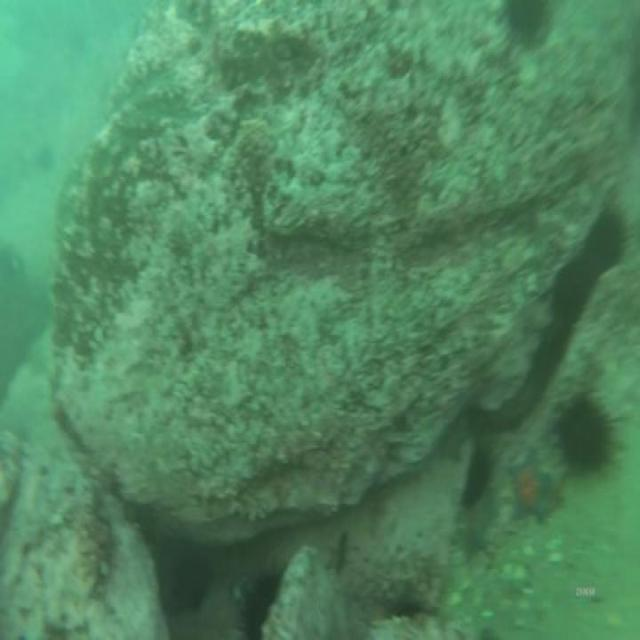echinus: (556, 390, 614, 482), (241, 565, 285, 640), (460, 442, 490, 508)
starfish: (505, 439, 558, 528)
